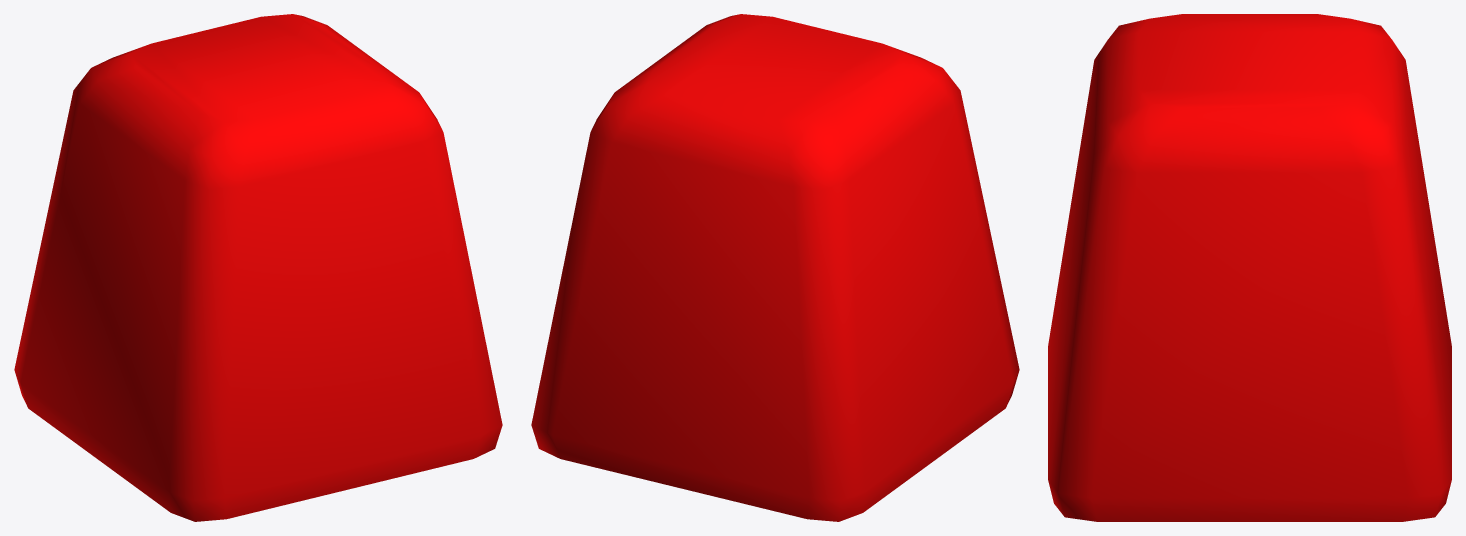
The model's file is SM_CastlePillarTop.FBX.
The picture shows the model from 3 angles, left to right: view 1: azimuth 30°, elevation 25°; view 2: azimuth 150°, elevation 25°; view 3: azimuth 270°, elevation 25°; orthographic projection. The views are drawn at different scales.
Parts seen in each view (by area): view 1: PillarTop_low; view 2: PillarTop_low; view 3: PillarTop_low.
Part boxes in pixels (x1,y1,x2,y2): PillarTop_low: (14,14,502,521); PillarTop_low: (531,14,1019,521); PillarTop_low: (1048,14,1451,521).
Bounding box in the file's own units: 103 × 109 × 103.
